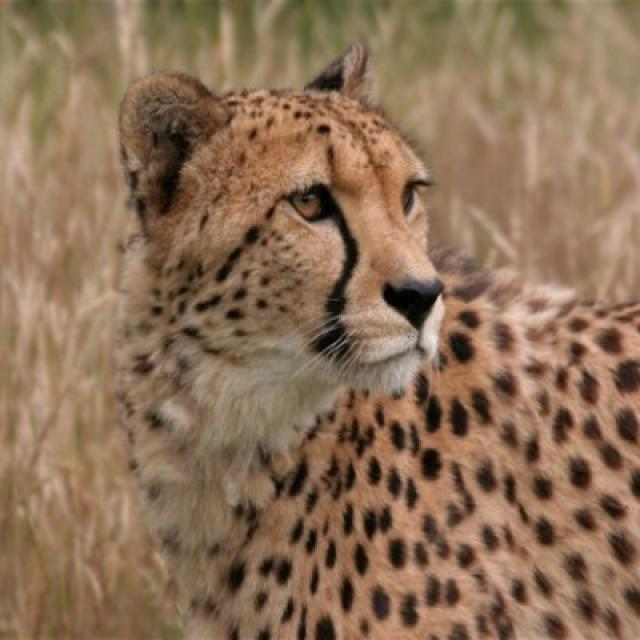Cheetah: (114, 43, 638, 638)
